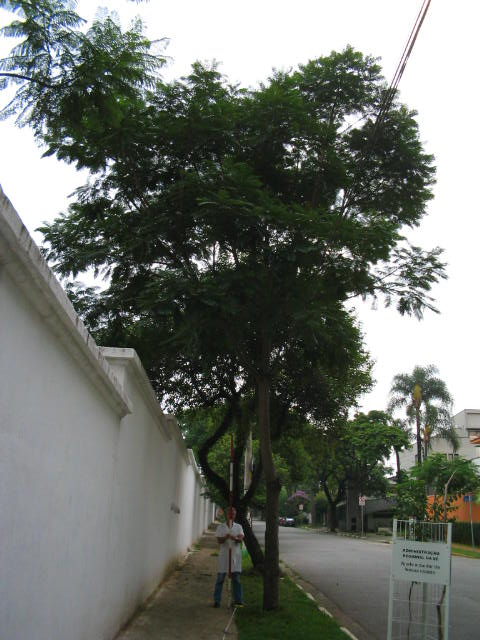crown: (38, 10, 446, 425)
stem: (250, 381, 293, 609)
stick: (218, 434, 240, 608)
tree: (36, 8, 447, 612)
